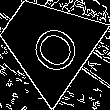O_NW: (14, 11, 79, 75)
